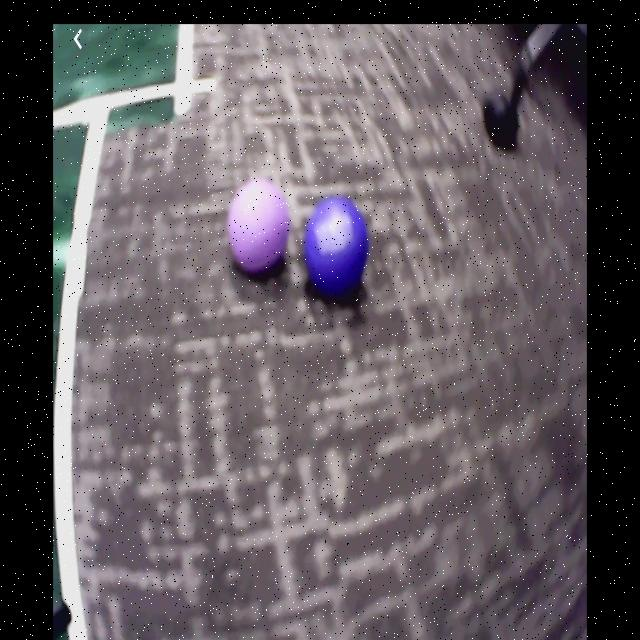ball: (304, 200, 368, 296), (229, 180, 289, 273)
